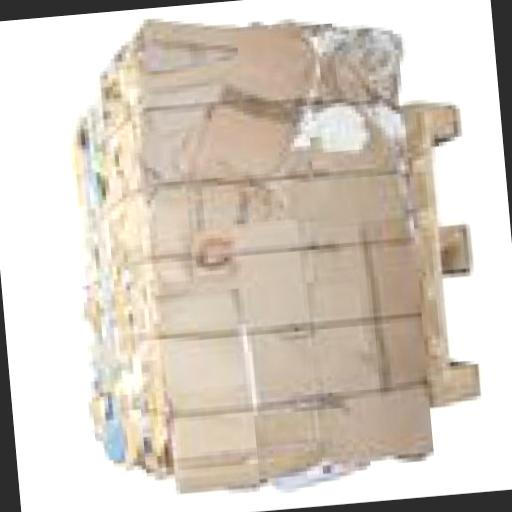cardboard: (56, 6, 440, 507)
